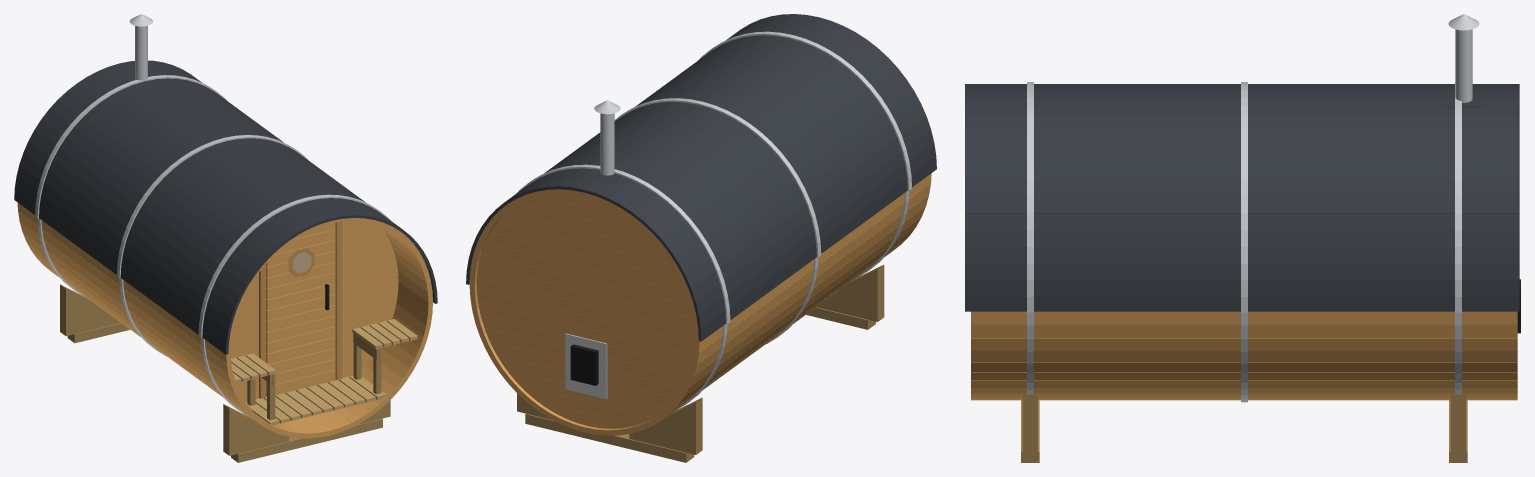
Rendered from баня_бочка_2_3_м_с_террасой_0_5_м_печь_каменка_бак_лавки.glb.
The picture shows the model from 3 angles, left to right: view 1: azimuth 30°, elevation 25°; view 2: azimuth 150°, elevation 25°; view 3: azimuth 270°, elevation 25°; orthographic projection. The views are drawn at different scales.
Visible parts, largest first — view 1: roof, walls, barrel, floor; view 2: roof, walls, barrel; view 3: roof, walls, barrel.
Boxes of the visible parts, x1,y1,x2,y2 form: roof: [14, 60, 437, 354]; walls: [17, 203, 432, 438]; barrel: [37, 14, 390, 462]; floor: [231, 319, 417, 425]; roof: [466, 14, 936, 341]; walls: [469, 173, 931, 435]; barrel: [517, 100, 909, 462]; roof: [965, 82, 1519, 312]; walls: [971, 311, 1517, 400]; barrel: [1021, 14, 1520, 462].
Bounding box in the file's own units: 2.07 × 2.84 × 3.56.
